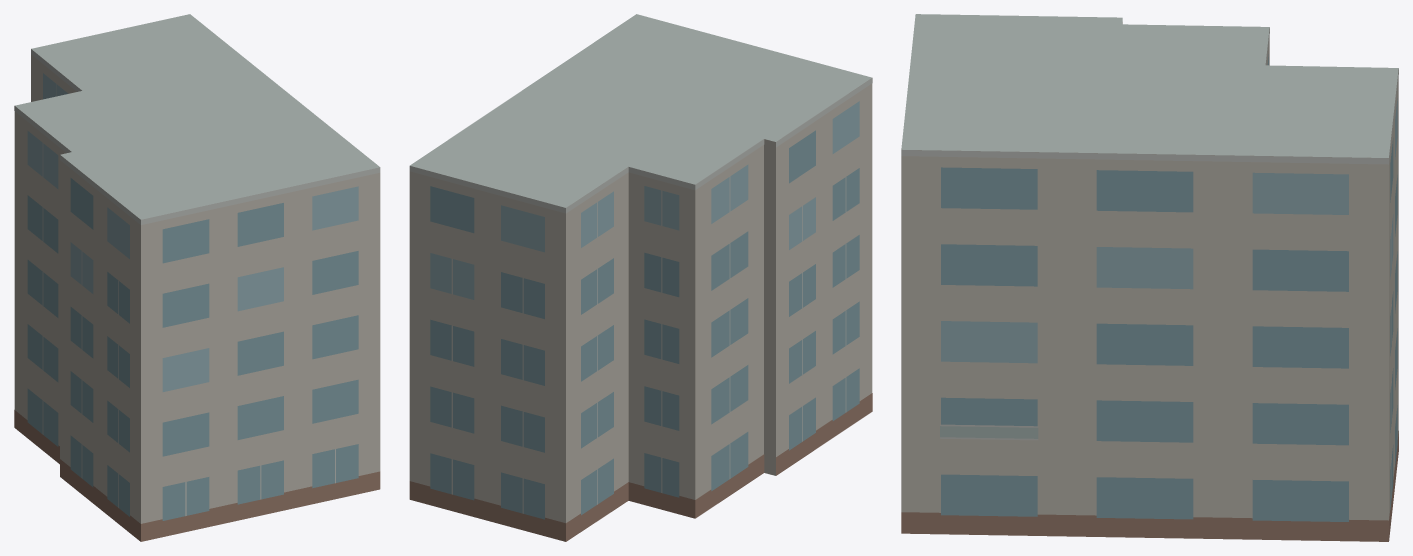
The model's file is survey-upis-32663015.glb.
The picture shows the model from 3 angles, left to right: view 1: azimuth 30°, elevation 25°; view 2: azimuth 150°, elevation 25°; view 3: azimuth 270°, elevation 25°; orthographic projection. The views are drawn at different scales.
Visible parts, largest first — view 1: survey-upis-32663015.tmp; view 2: survey-upis-32663015.tmp; view 3: survey-upis-32663015.tmp.
Part boxes in pixels (left/top/right/bottom): survey-upis-32663015.tmp: left=14, top=14, right=380, bottom=541; survey-upis-32663015.tmp: left=409, top=14, right=872, bottom=541; survey-upis-32663015.tmp: left=901, top=14, right=1398, bottom=541.
Size of the model in its own units: 11.76 by 14.6 by 17.16.
